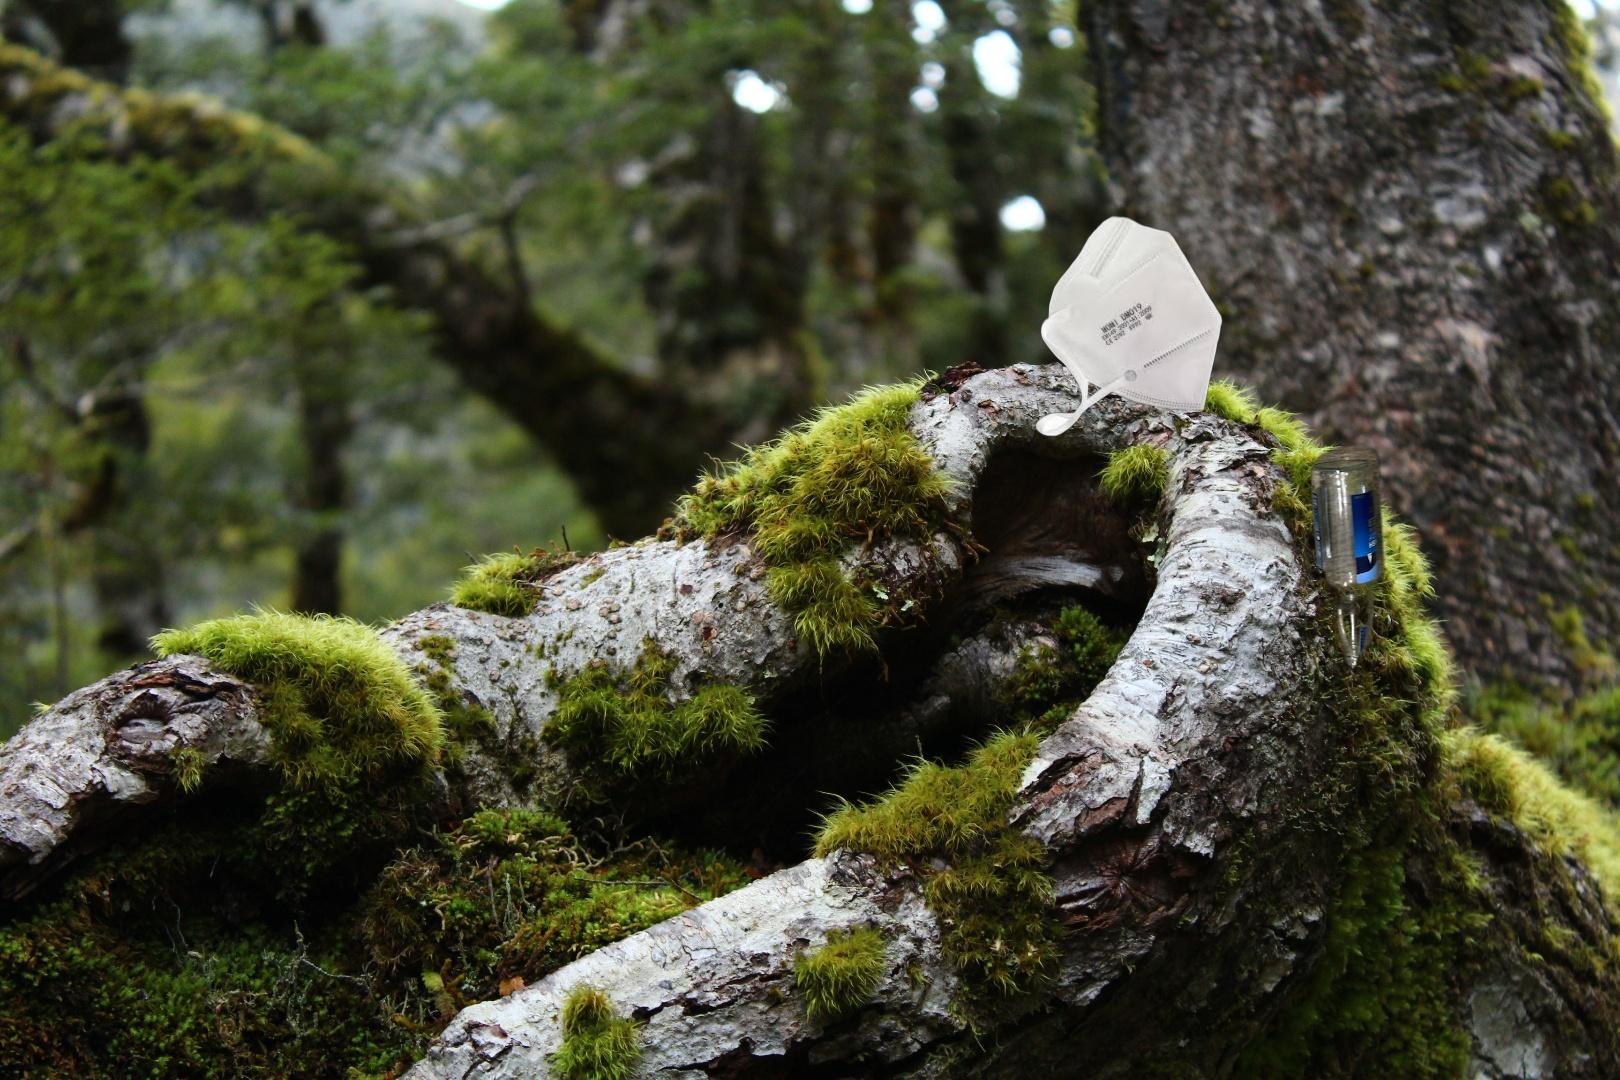glass: (1305, 439, 1389, 718)
trash: (1033, 212, 1225, 439)
